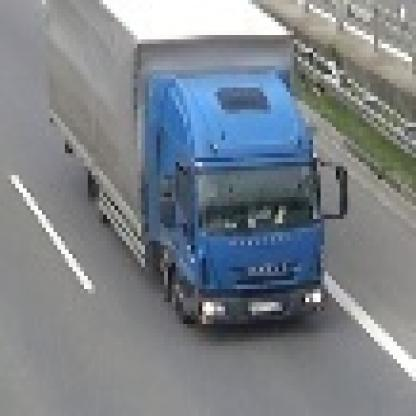truck: (46, 1, 348, 329)
